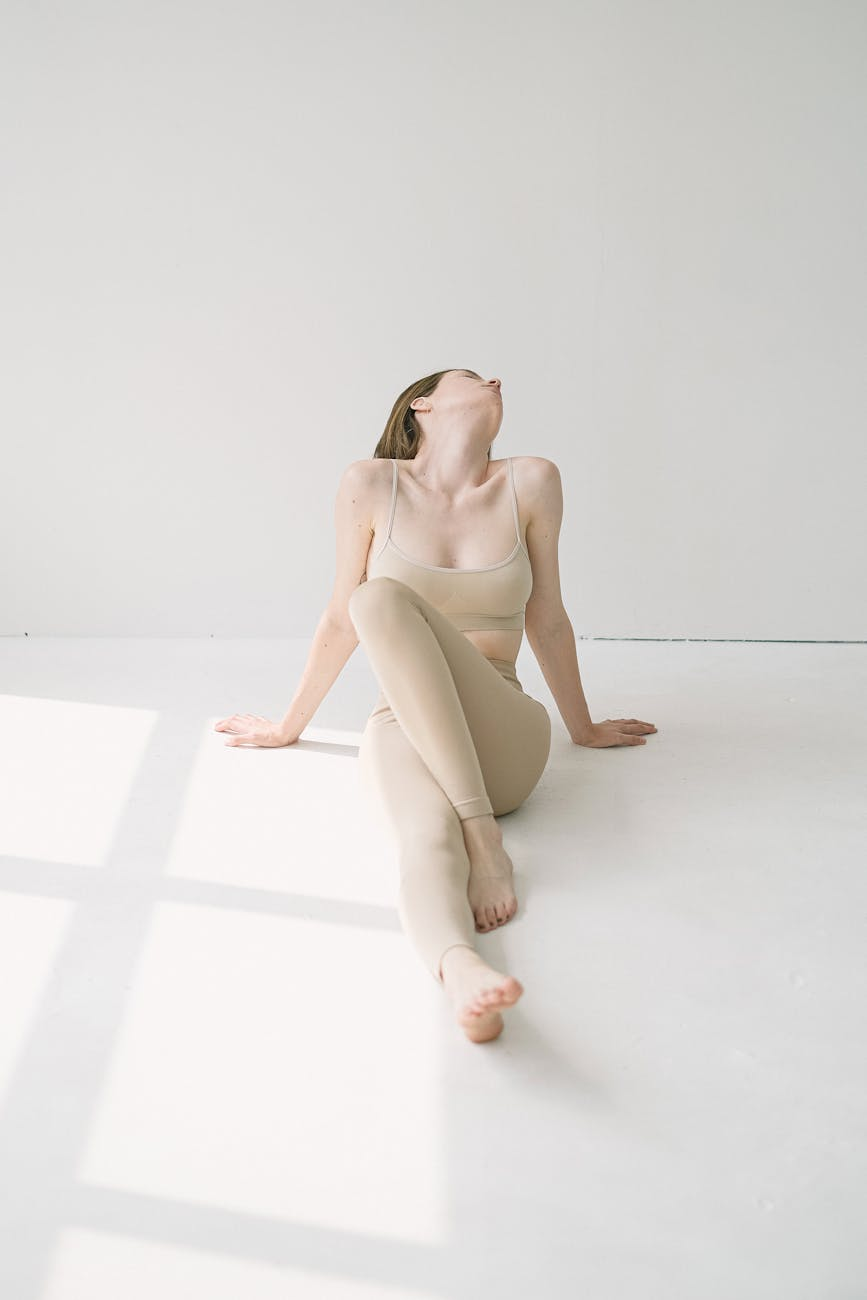crop_top: (354, 459, 546, 639)
opened_foot: (424, 942, 530, 1050), (455, 825, 529, 933)
